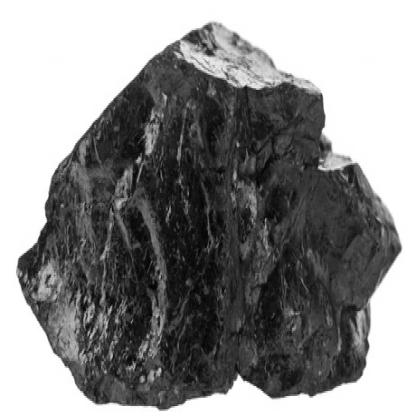Sedimentary_coal: (6, 5, 404, 408)
